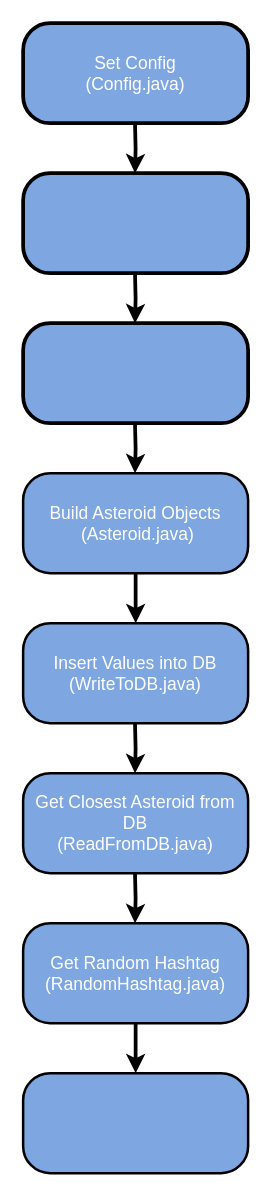
This 271x1196 diagram has some shape labels left out. The centre of each missing label's shape, as x and y in pixels:
"Get Response (CreateRequest.java)" belongs at point (135, 222).
"Process Response (ProcessResponse.java)" belongs at point (135, 372).
"Tweet Closest Asteroid Details (BuildTwitterInstance.java)" belongs at point (135, 1122).
